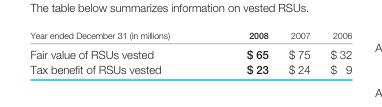table: (29, 29, 351, 75)
table column: (29, 29, 207, 75), (207, 29, 277, 75), (277, 29, 319, 75), (319, 29, 351, 75)
table column header: (29, 29, 351, 43)
table row: (29, 43, 351, 61), (29, 29, 351, 43), (29, 61, 351, 75)
